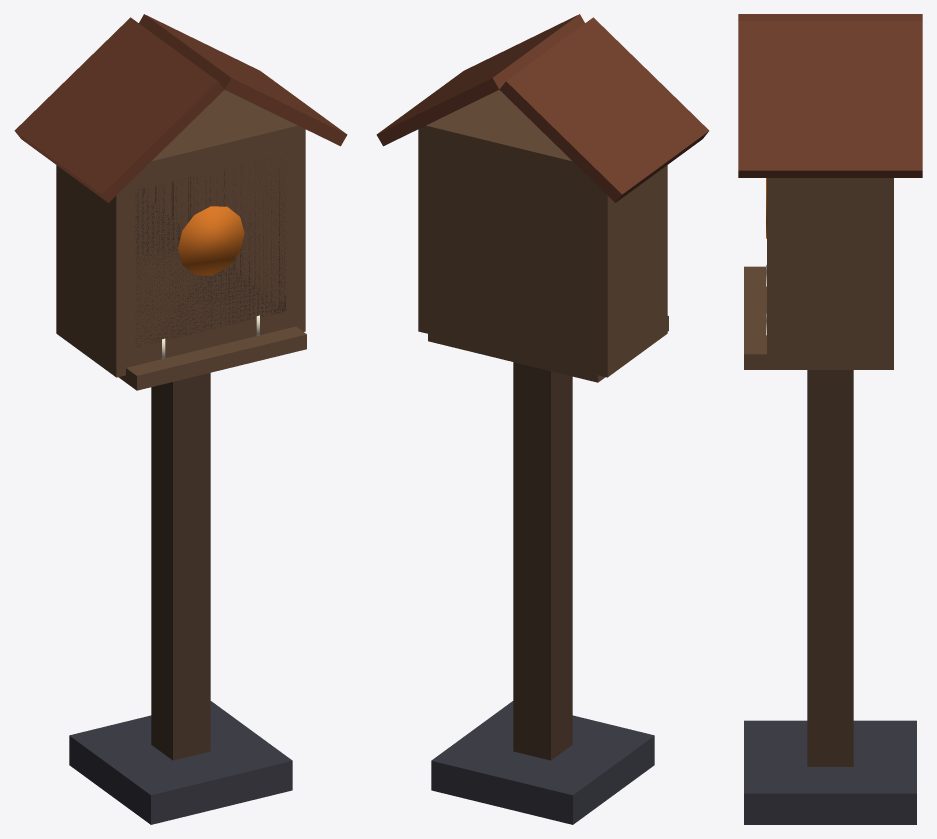
File: shrine_small.glb
The picture shows the model from 3 angles, left to right: view 1: azimuth 30°, elevation 25°; view 2: azimuth 150°, elevation 25°; view 3: azimuth 270°, elevation 25°; orthographic projection. The views are drawn at different scales.
Parts seen in each view (by area): view 1: shrine_small; view 2: shrine_small; view 3: shrine_small.
Part boxes in pixels (x1=…): shrine_small: x1=14, y1=14, x2=347, y2=824; shrine_small: x1=376, y1=14, x2=709, y2=824; shrine_small: x1=738, y1=14, x2=922, y2=824.
Bounding box in the file's own units: 0.5201 × 1.48 × 0.32.
